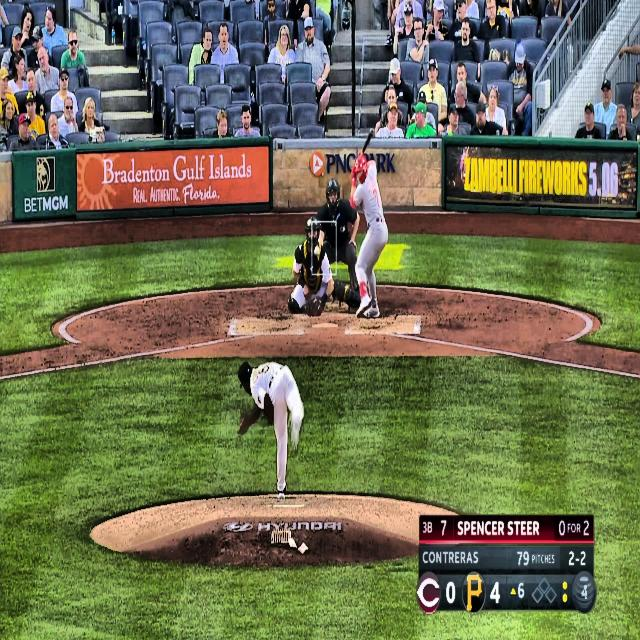baseball: (314, 246, 320, 258)
